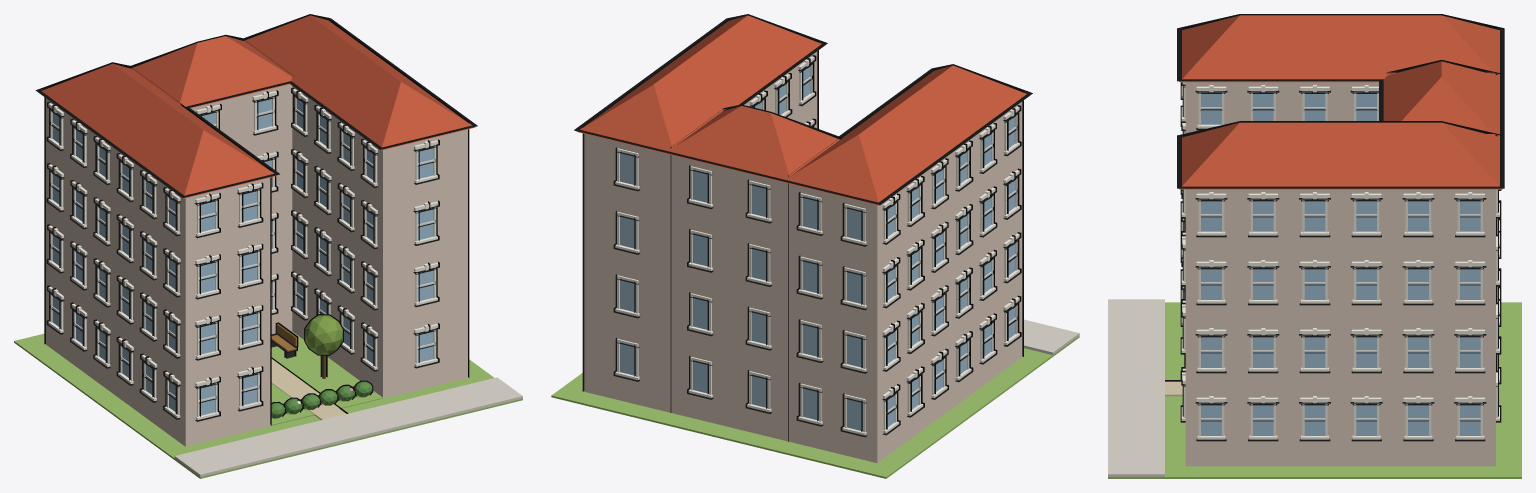
Rendered from Konut_avlulu_blok_2.fbx.
3 renders of one model, left to right at view 1: azimuth 30°, elevation 25°; view 2: azimuth 150°, elevation 25°; view 3: azimuth 270°, elevation 25°, orthographic. The views are drawn at different scales.
Parts seen in each view (by area): view 1: Konut_avlulu_blok_2; view 2: Konut_avlulu_blok_2; view 3: Konut_avlulu_blok_2.
Boxes of the visible parts, x1,y1,x2,y2 form: Konut_avlulu_blok_2: (14,14,522,478); Konut_avlulu_blok_2: (551,14,1079,478); Konut_avlulu_blok_2: (1108,14,1521,478).
Size of the model in its own units: 16 by 13.81 by 16.
